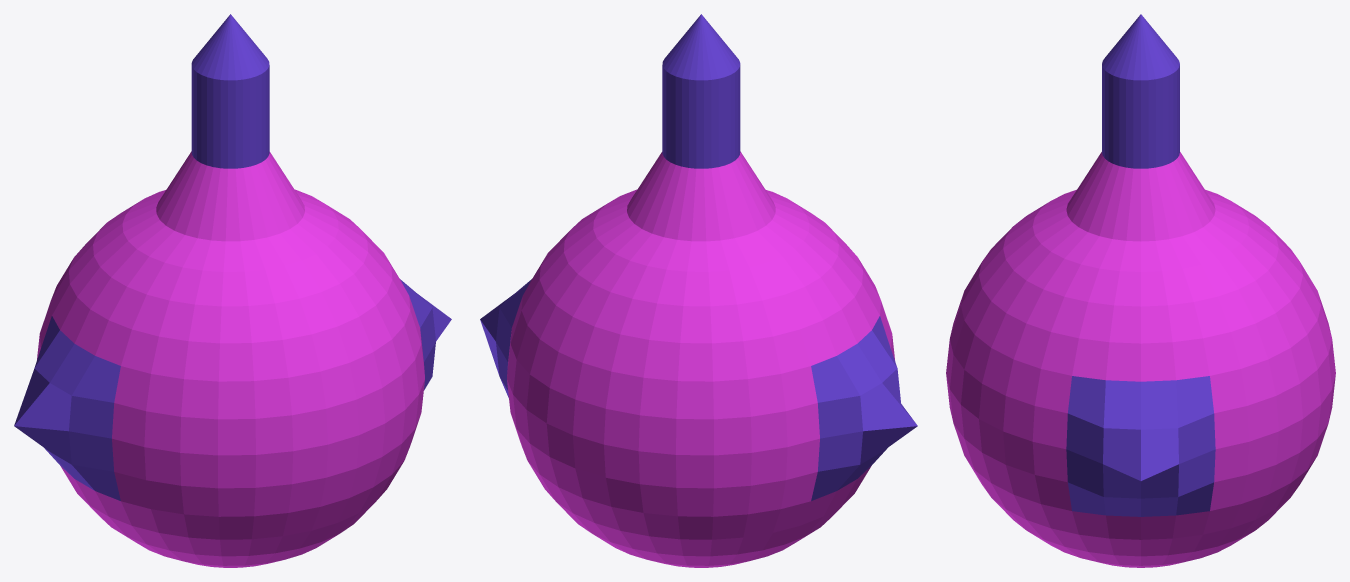
Rendered from Capper.fbx.
The picture shows the model from 3 angles, left to right: view 1: azimuth 30°, elevation 25°; view 2: azimuth 150°, elevation 25°; view 3: azimuth 270°, elevation 25°; orthographic projection.
Visible parts, largest first — view 1: Sphere, Sphere.001; view 2: Sphere, Sphere.001; view 3: Sphere, Sphere.001.
Boxes of the visible parts, box(x1,y1,x2,y2) form: Sphere: box(37, 14, 424, 567); Sphere.001: box(14, 279, 451, 500); Sphere: box(507, 14, 894, 567); Sphere.001: box(480, 279, 917, 500); Sphere: box(946, 14, 1335, 567); Sphere.001: box(1066, 376, 1215, 516).
Size of the model in its own units: 259 by 303 by 200.
